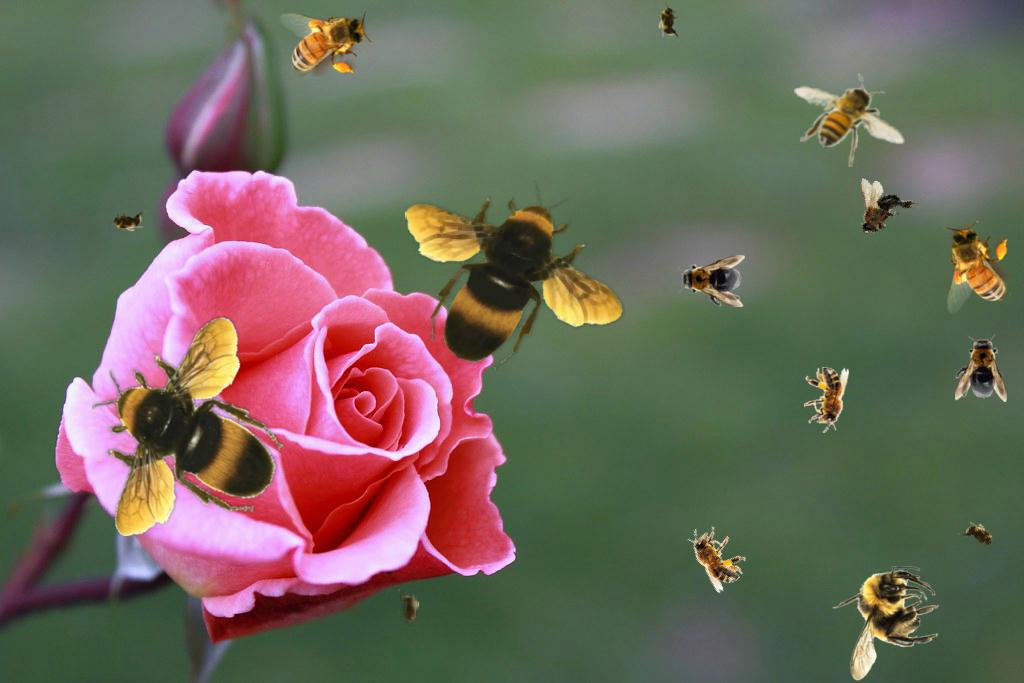Bee: (405, 180, 625, 371), (92, 316, 283, 536), (832, 566, 939, 681), (794, 73, 905, 167), (943, 221, 1011, 314), (279, 9, 372, 77), (676, 515, 754, 596), (842, 175, 921, 249), (955, 334, 1007, 402), (677, 255, 745, 307), (804, 367, 849, 433), (957, 515, 1003, 557), (107, 210, 147, 232), (658, 1, 680, 41), (398, 589, 420, 629)
